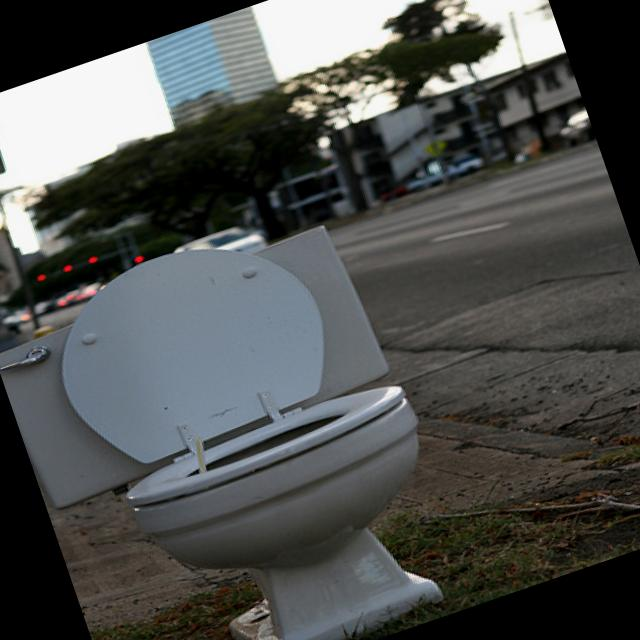Vehicle: (170, 216, 270, 277), (444, 152, 488, 180), (557, 116, 595, 148), (404, 169, 444, 191)
